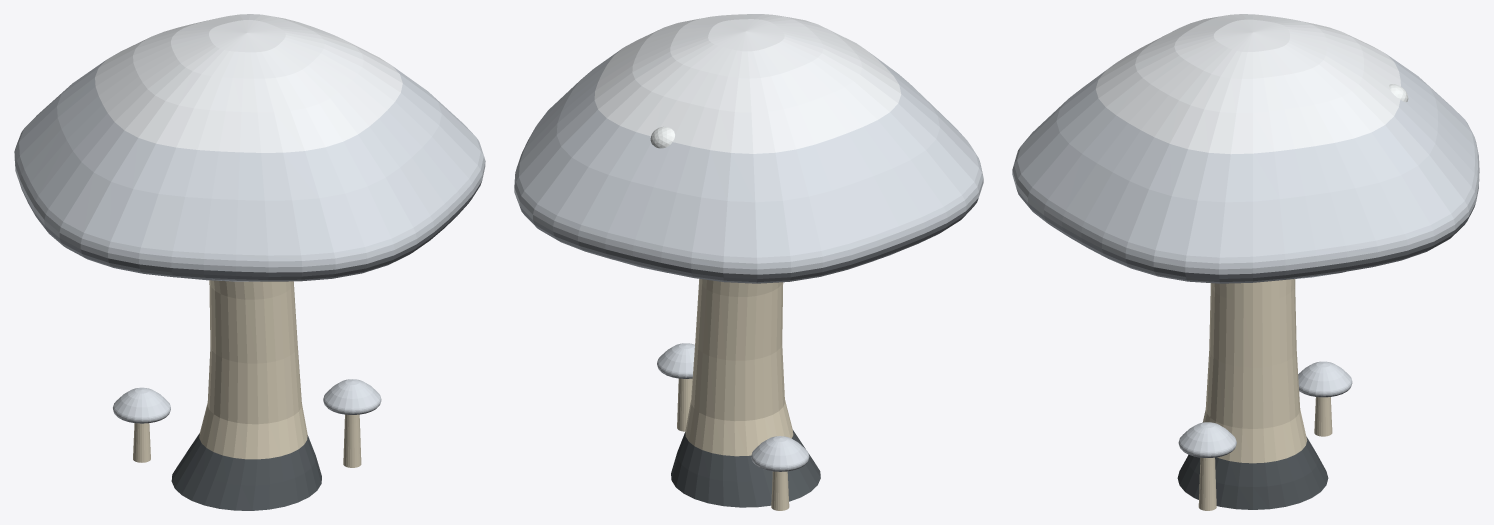
Rendered from MushroomTree.obj.
The picture shows the model from 3 angles, left to right: view 1: azimuth 30°, elevation 25°; view 2: azimuth 150°, elevation 25°; view 3: azimuth 270°, elevation 25°; orthographic projection.
Size of the model in its own units: 9.38 by 9.78 by 9.29.
